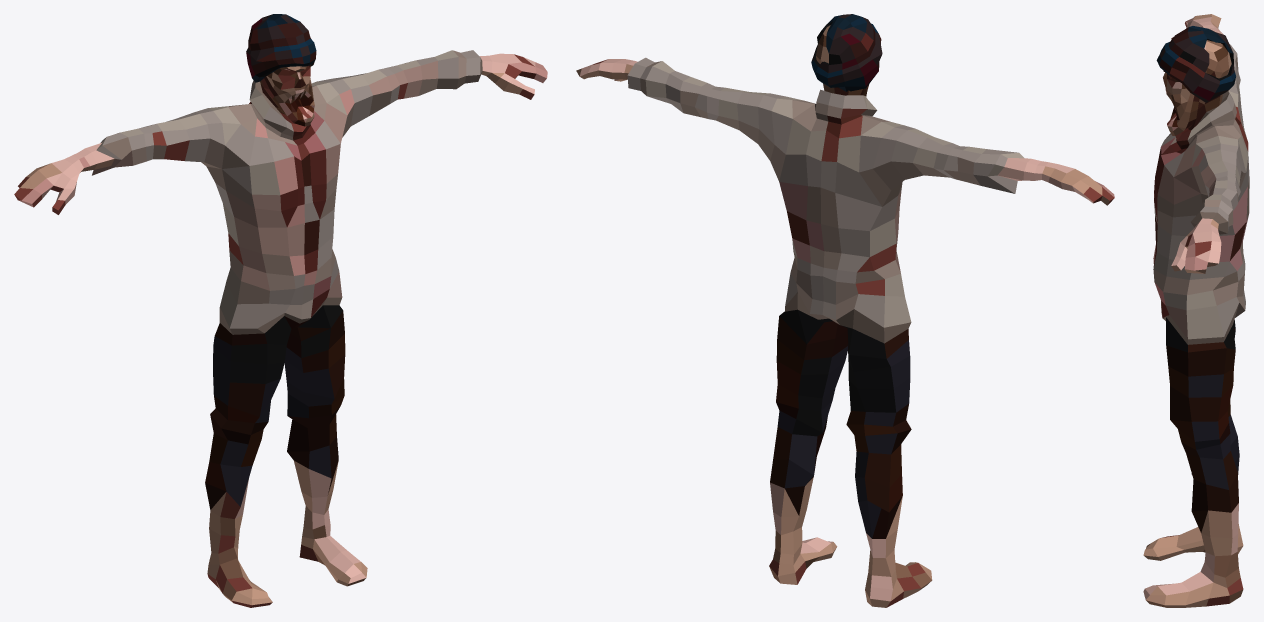
File: lpMale_zombie_E-model.fbx
The picture shows the model from 3 angles, left to right: view 1: azimuth 30°, elevation 25°; view 2: azimuth 150°, elevation 25°; view 3: azimuth 270°, elevation 25°; orthographic projection. The views are drawn at different scales.
Parts seen in each view (by area): view 1: lpMale_zombie_E, acc_beannieHat; view 2: lpMale_zombie_E, acc_beannieHat; view 3: lpMale_zombie_E, acc_beannieHat.
Boxes of the visible parts, <box> form: lpMale_zombie_E: <box>14,50,547,607</box>; acc_beannieHat: <box>246,14,316,82</box>; lpMale_zombie_E: <box>576,25,1114,607</box>; acc_beannieHat: <box>811,14,882,91</box>; lpMale_zombie_E: <box>1143,14,1249,607</box>; acc_beannieHat: <box>1156,26,1235,102</box>.
Size of the model in its own units: 168 by 170 by 29.83.
1 material, 1 textured.
